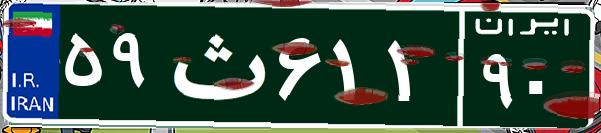0: (525, 38, 570, 115)
1: (385, 28, 445, 110), (330, 28, 385, 110)
5: (57, 26, 110, 107)
6: (273, 28, 330, 110)
9: (475, 38, 525, 113), (110, 28, 158, 105)
ث: (158, 15, 273, 115)
